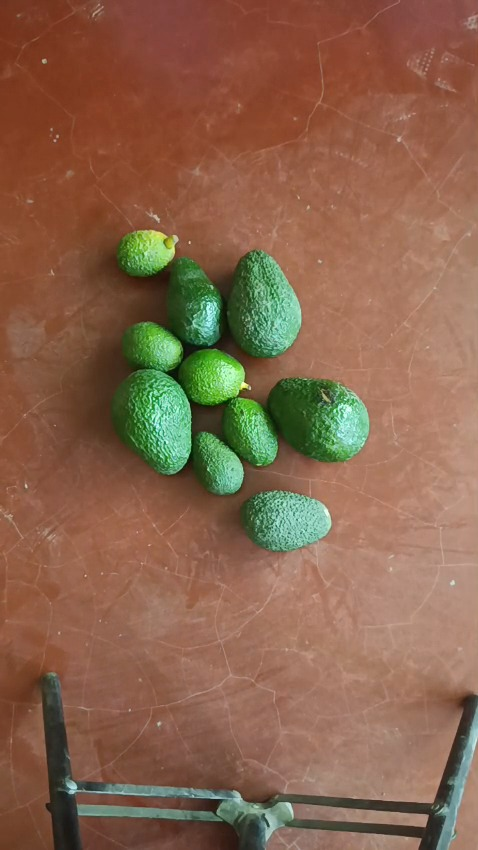Primera: (266, 376, 369, 461), (110, 369, 193, 474), (226, 248, 301, 357)
Segunda: (240, 490, 331, 551), (165, 256, 224, 348)
Tercera: (221, 396, 278, 467), (177, 348, 246, 406), (121, 321, 185, 373), (192, 431, 243, 493), (115, 229, 176, 276)
